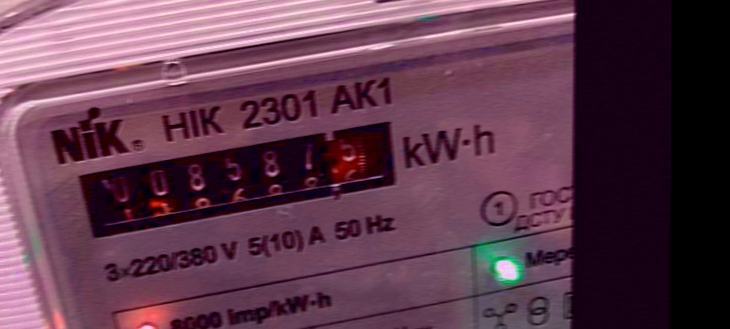0: (147, 165, 173, 199), (109, 172, 135, 205)
5: (223, 153, 246, 184), (337, 132, 359, 163)
6: (342, 167, 360, 184)
7: (298, 141, 320, 175)
8: (186, 161, 210, 194), (260, 147, 283, 180)
screen: (71, 118, 420, 244)
